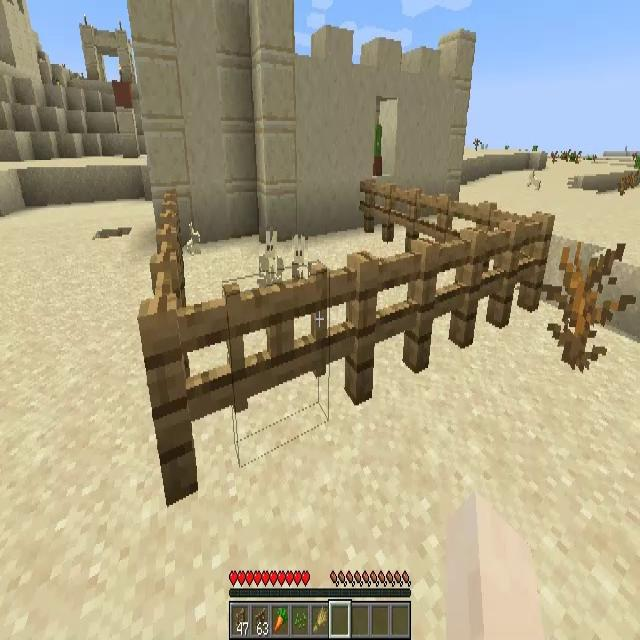rabbit: (260, 227, 278, 279), (292, 232, 308, 283), (186, 218, 202, 255), (526, 168, 542, 190)
